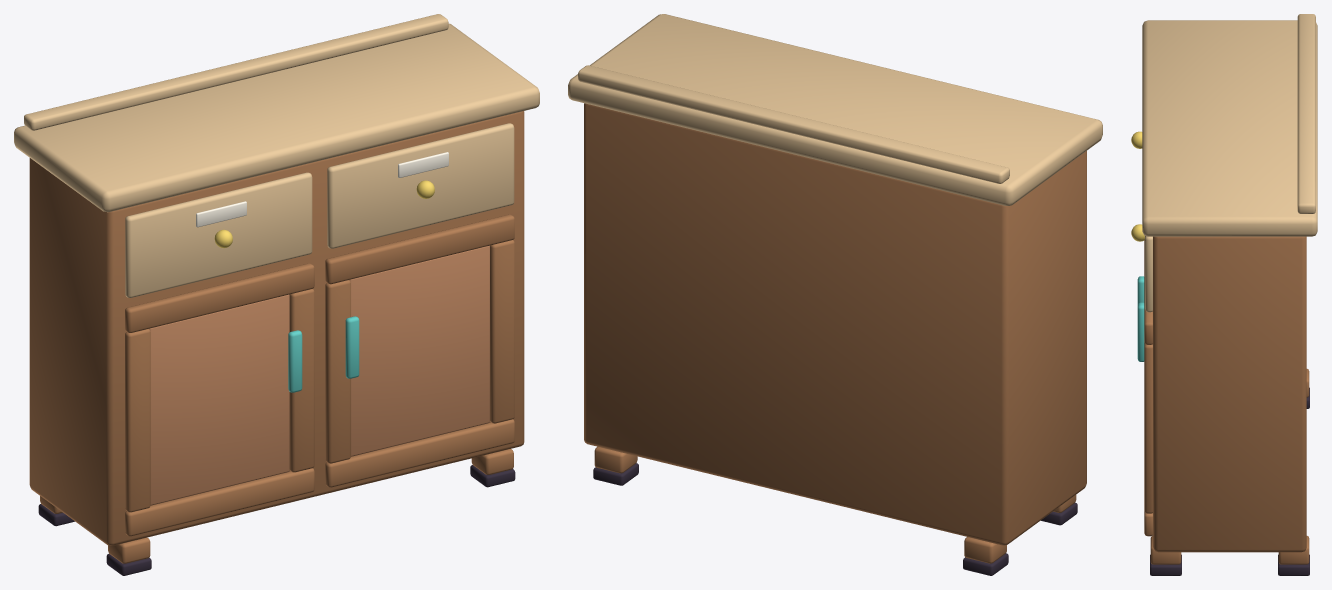
File: cabinet.glb
3 views of the same model, side by side, from view 1: azimuth 30°, elevation 25°; view 2: azimuth 150°, elevation 25°; view 3: azimuth 270°, elevation 25° (orthographic). The views are drawn at different scales.
Visible parts, largest first — view 1: FurnCabinet_Carcass, FurnCabinet_TopDrawers, FurnCabinet_DoorPanels, FurnCabinet_DoorHandles, FurnCabinet_Glides, FurnCabinet_Labels; view 2: FurnCabinet_Carcass, FurnCabinet_TopDrawers, FurnCabinet_Glides; view 3: FurnCabinet_Carcass, FurnCabinet_TopDrawers, FurnCabinet_Glides, FurnCabinet_DoorHandles, FurnCabinet_DrawerPulls.
Boxes of the visible parts, left/top/right/bottom form: FurnCabinet_Carcass: left=29, top=111, right=524, bottom=563; FurnCabinet_TopDrawers: left=14, top=14, right=539, bottom=297; FurnCabinet_DoorPanels: left=149, top=245, right=489, bottom=505; FurnCabinet_DoorHandles: left=288, top=316, right=359, bottom=392; FurnCabinet_Glides: left=38, top=465, right=515, bottom=575; FurnCabinet_Labels: left=196, top=152, right=448, bottom=227; FurnCabinet_Carcass: left=584, top=103, right=1086, bottom=563; FurnCabinet_TopDrawers: left=568, top=14, right=1102, bottom=205; FurnCabinet_Glides: left=593, top=463, right=1077, bottom=575; FurnCabinet_Carcass: left=1144, top=236, right=1309, bottom=564; FurnCabinet_TopDrawers: left=1142, top=14, right=1317, bottom=312; FurnCabinet_Glides: left=1150, top=387, right=1309, bottom=575; FurnCabinet_DoorHandles: left=1137, top=276, right=1144, bottom=361; FurnCabinet_DrawerPulls: left=1131, top=131, right=1144, bottom=241.
Bounding box in the file's own units: 1.3 × 1.14 × 0.51.
